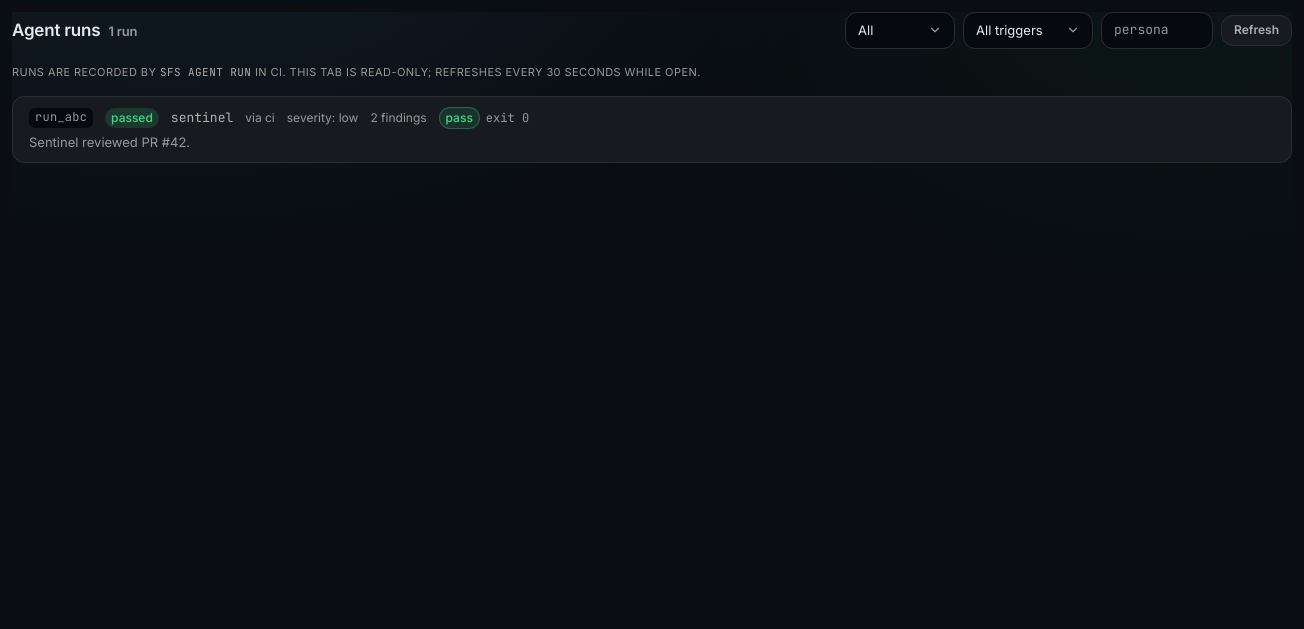
it: AgentRunsTab › expands run detail on click and renders findings JSON
Click the text "run_abc": (61, 118) [29, 108, 93, 128]
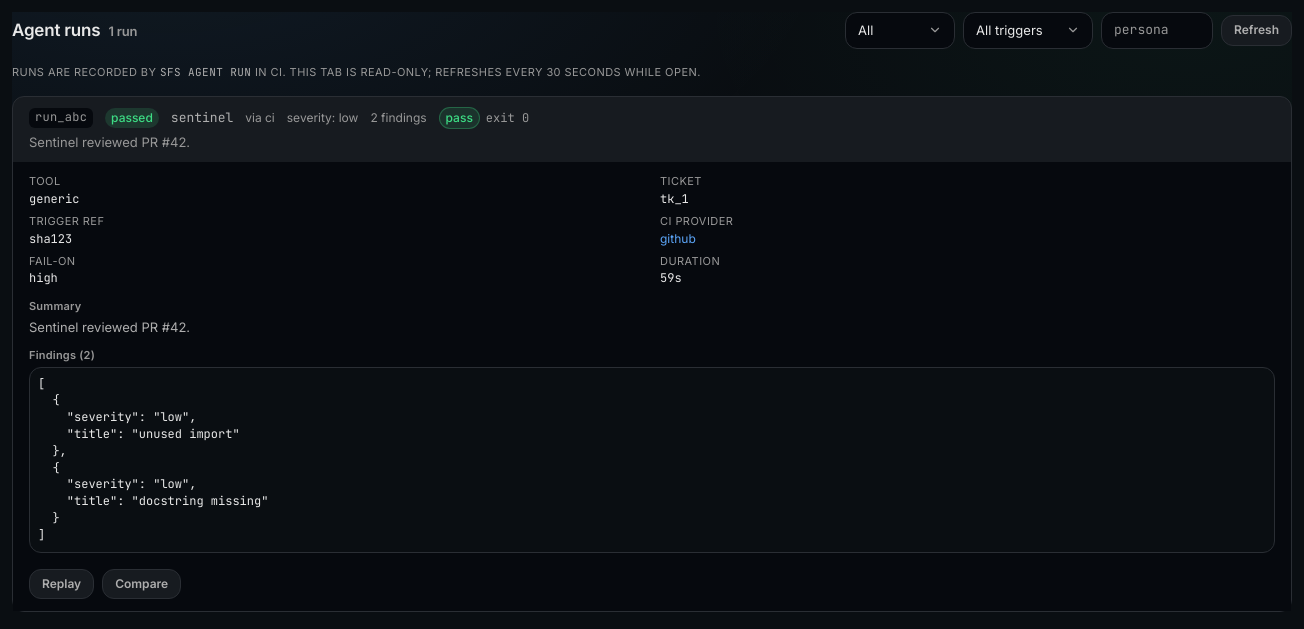
Expected: the 1st text "Sentinel reviewed PR #42." is shown, [29, 134, 190, 150]
Expected: the text "unused import" is shown, [38, 376, 268, 543]
